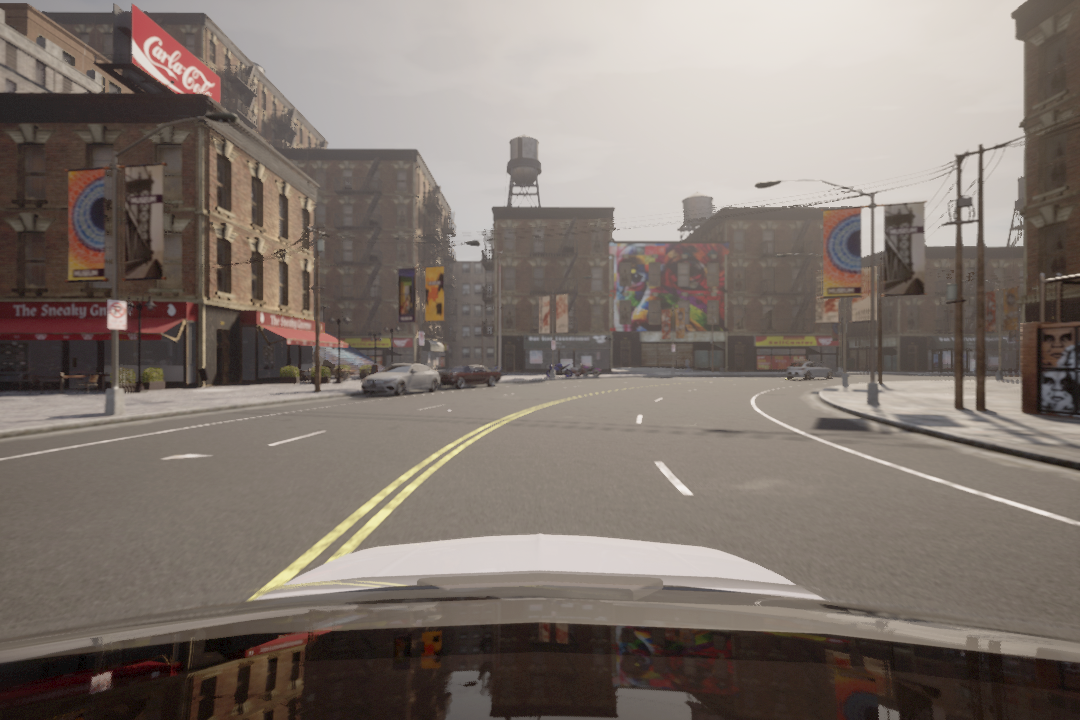TrafficSign_nstop: (104, 297, 126, 333)
